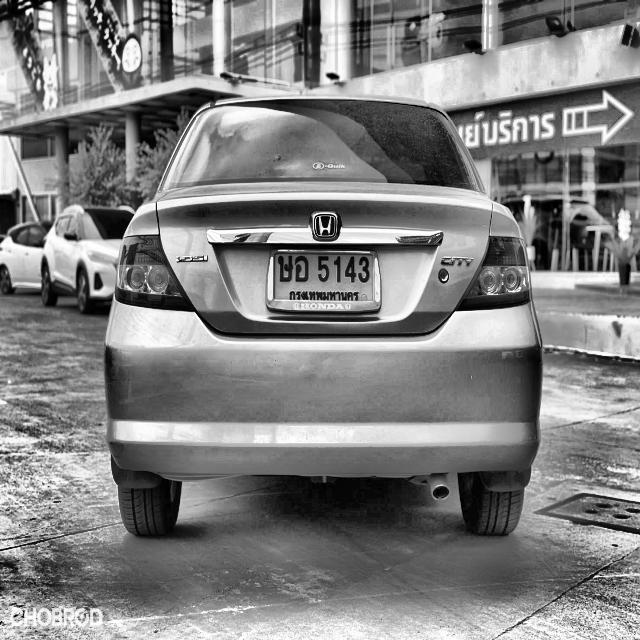license-plate: (262, 237, 388, 324)
